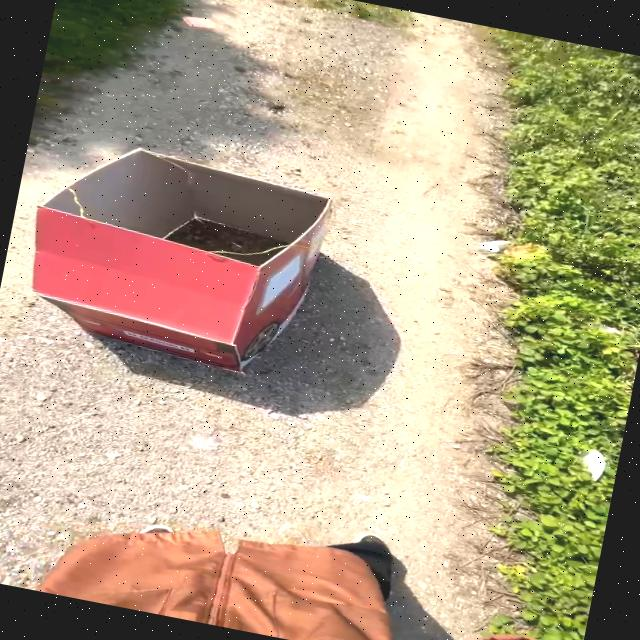red_car: (0, 121, 409, 411)
